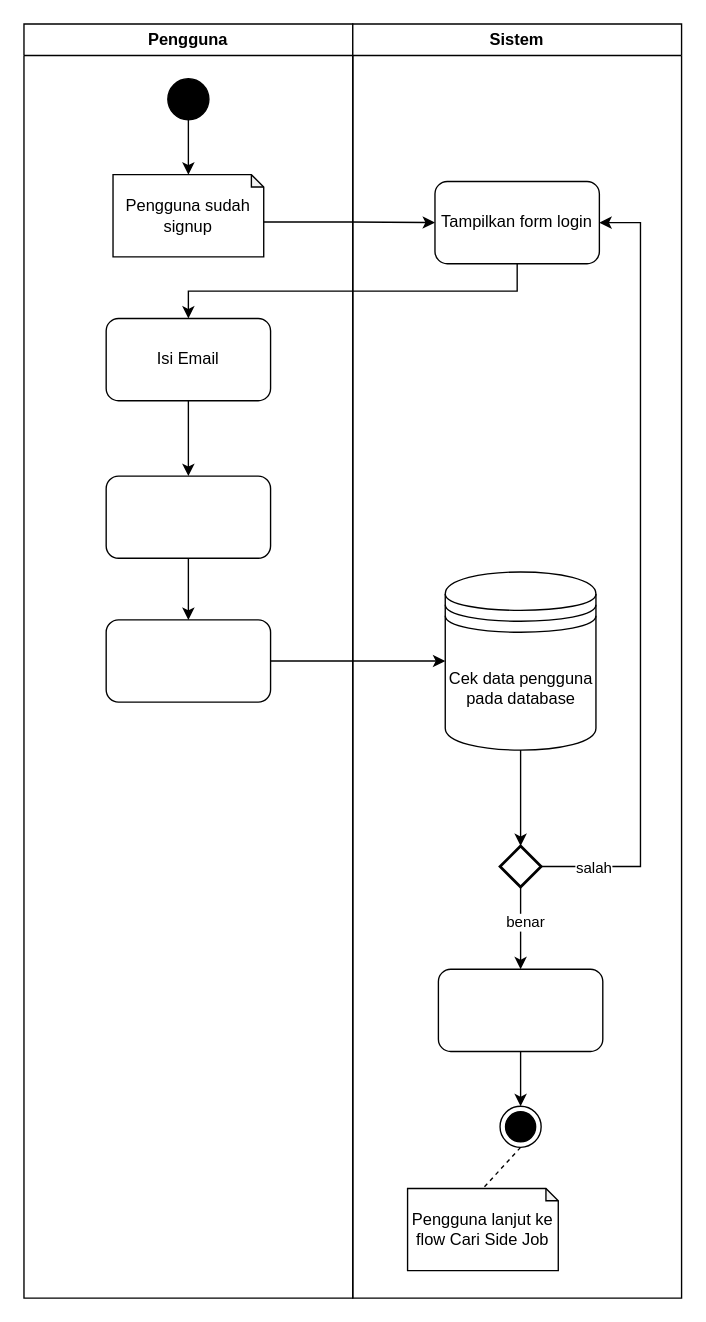
This 706x1322 diagram has some shape labels left out. The centre of each missing label's shape, as x and y in pixels:
"Isi Password Akun" goes at pixel 188 516.
"Klik 'Login" goes at pixel 188 660.
"Tampil Form Preferensi Side Jobs" goes at pixel 520 1009.
